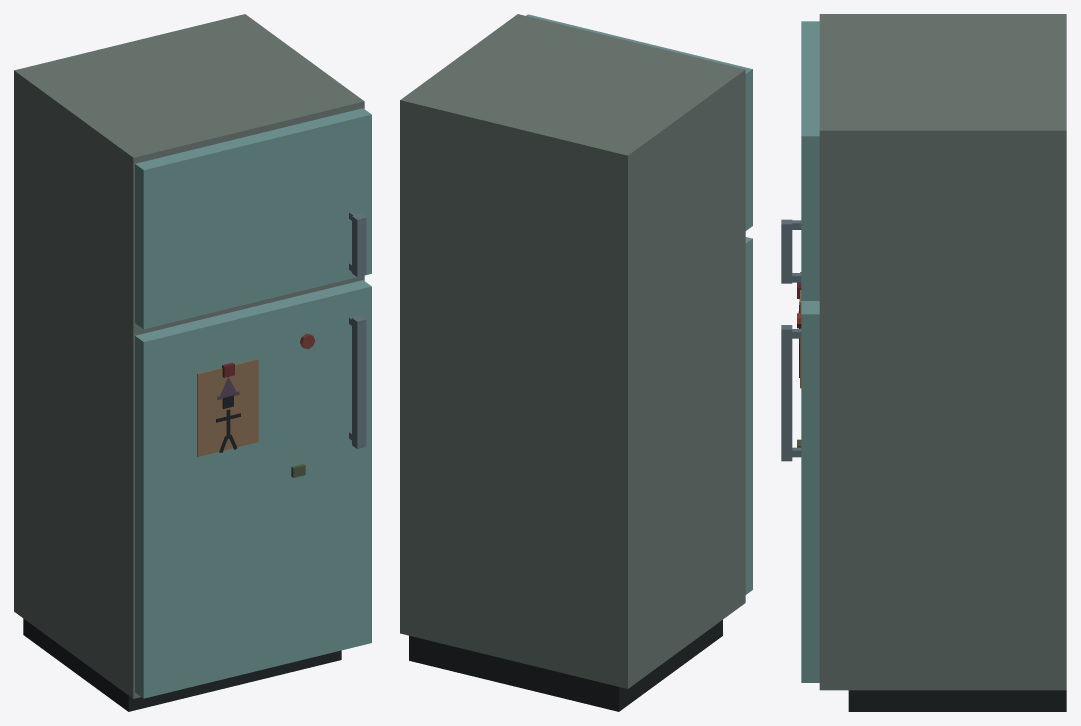
The model's file is frigider.glb.
3 renders of one model, left to right at view 1: azimuth 30°, elevation 25°; view 2: azimuth 150°, elevation 25°; view 3: azimuth 270°, elevation 25°, orthographic. The views are drawn at different scales.
Parts seen in each view (by area): view 1: Corp, UsaFrigider, UsaCongelator; view 2: Corp, UsaFrigider, UsaCongelator; view 3: Corp, UsaFrigider, UsaCongelator.
Boxes of the visible parts, bbox=[...] form: Corp: bbox=[14, 14, 364, 711]; UsaFrigider: bbox=[135, 280, 371, 698]; UsaCongelator: bbox=[135, 108, 371, 329]; Corp: bbox=[400, 14, 745, 711]; UsaFrigider: bbox=[745, 237, 752, 594]; UsaCongelator: bbox=[526, 14, 752, 230]; Corp: bbox=[819, 14, 1066, 711]; UsaFrigider: bbox=[781, 272, 819, 682]; UsaCongelator: bbox=[781, 21, 819, 300].
Bounding box in the file's own units: 0.76 × 1.78 × 0.785.
